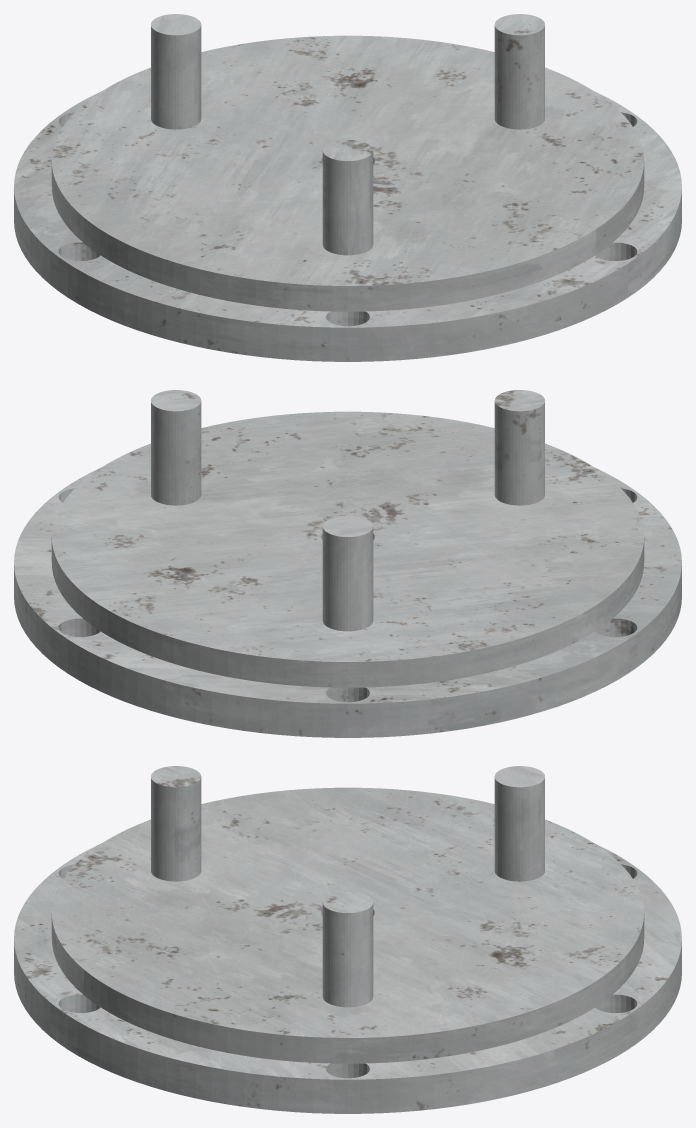
Rendered from carrier_v1.glb.
3 renders of one model, top to bottom at view 1: azimuth 30°, elevation 25°; view 2: azimuth 150°, elevation 25°; view 3: azimuth 270°, elevation 25°, orthographic.
Parts seen in each view (by area): view 1: OpenSCAD_Model; view 2: OpenSCAD_Model; view 3: OpenSCAD_Model.
Part boxes in pixels (x1,y1,x2,y2): OpenSCAD_Model: [14, 14, 681, 361]; OpenSCAD_Model: [14, 390, 681, 737]; OpenSCAD_Model: [14, 766, 681, 1113].
Bounding box in the file's own units: 106 × 27 × 106.
1 material, 1 textured.
